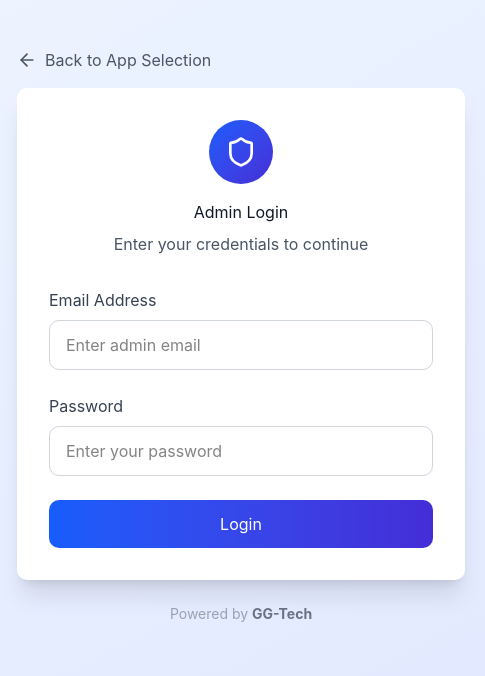
Test: AdminLoginScreen › clearing errors › clears an invalid-email error when the password changes
Type "random text" into the field labelled "Email Address" at (241, 345), box [49,320,433,370]
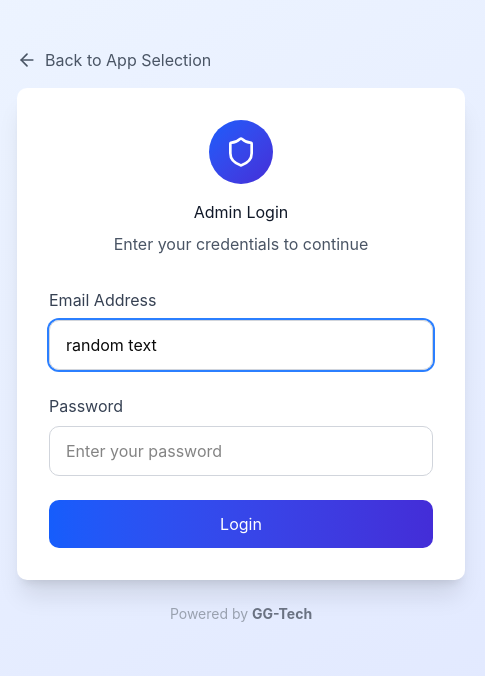
Type "whatever" into the password field labelled "Password" at (241, 451), box [49,426,433,476]
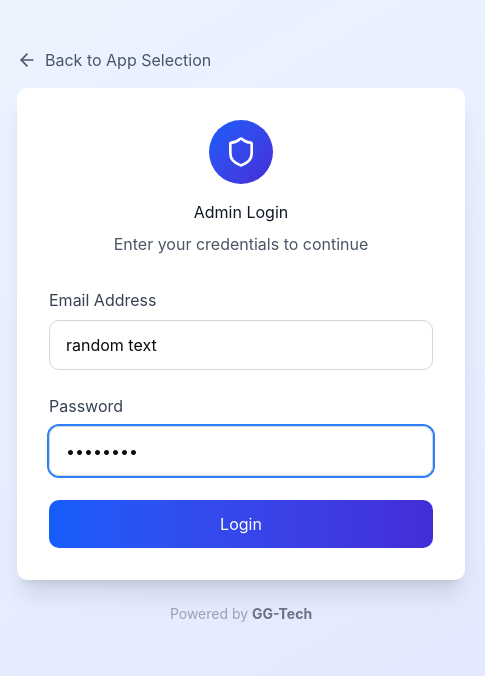
Click the button "Login" at (241, 524), box [49,500,433,548]
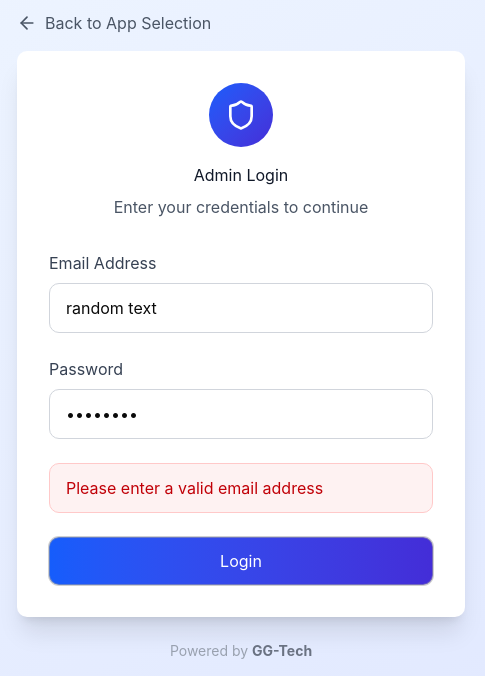
Check: the text "Please enter a valid email address" is shown, box [49,463,433,513]
Type "x" into the password field labelled "Password" at (241, 414), box [49,389,433,439]
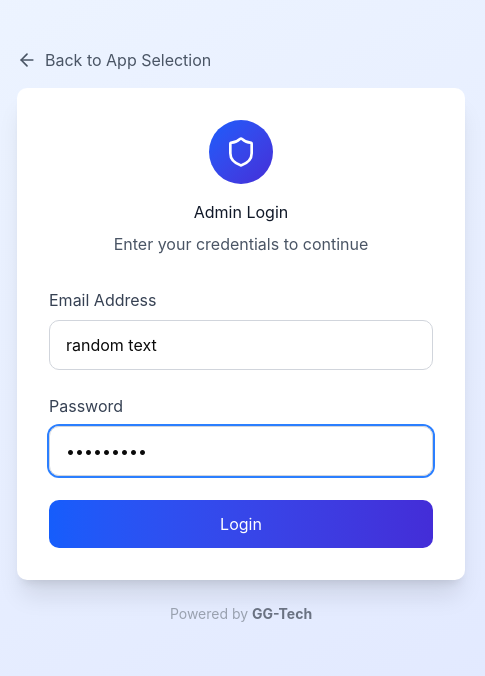
Check: the text "Please enter a valid email address" is gone
